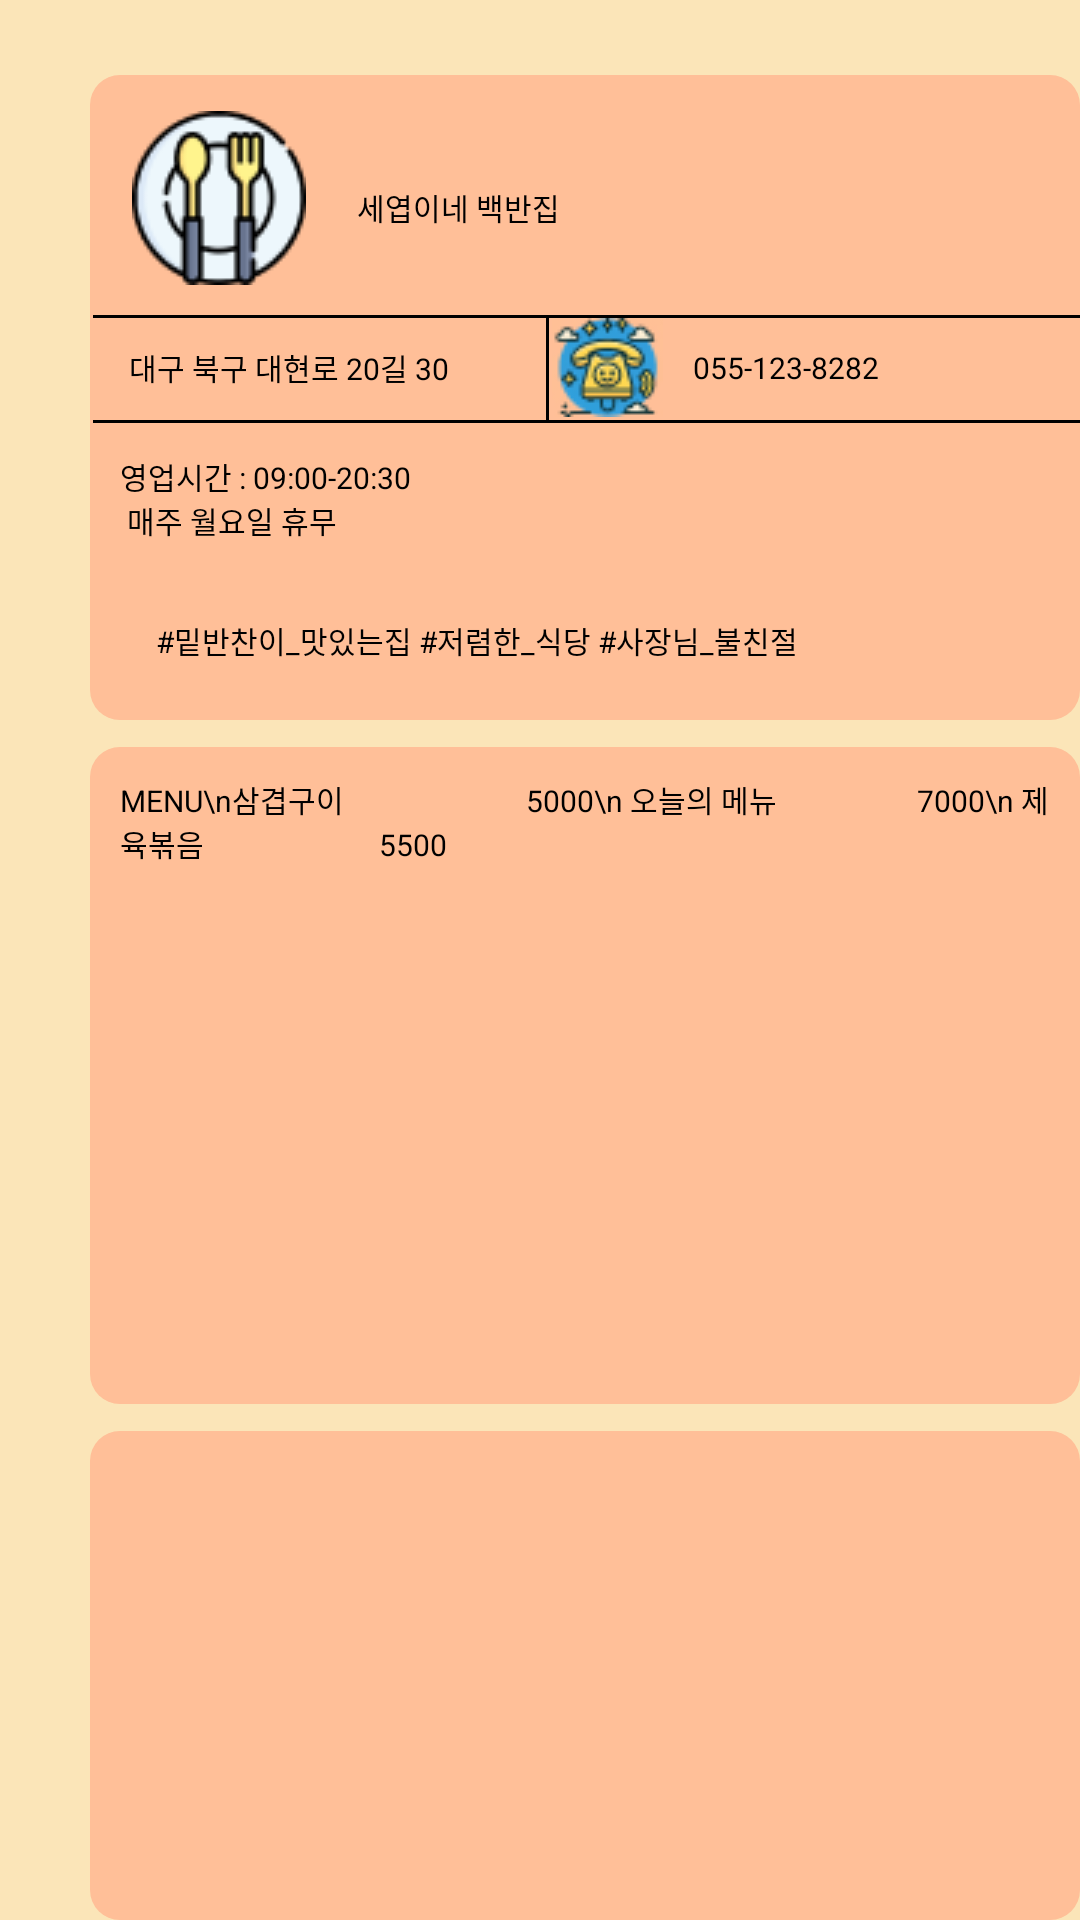

Screen size 1080px x 1920px. Icon name, then its center in pixels as [x,y]:
call: [606,367]
food: [219,198]
